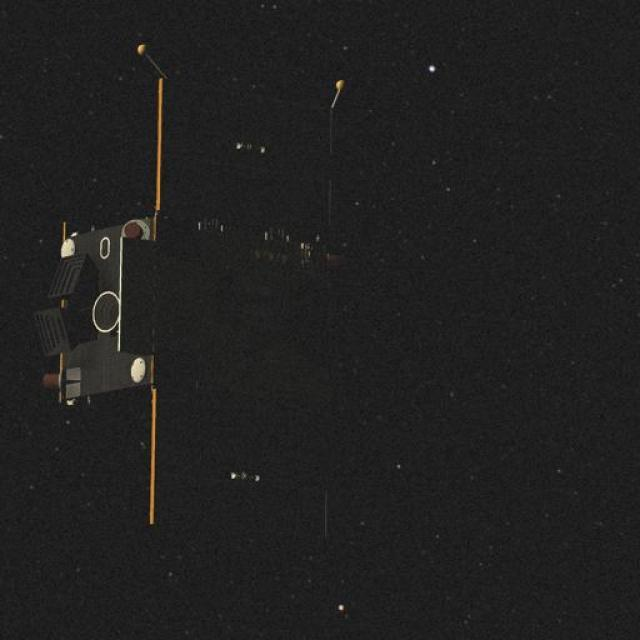proba_2: (41, 80, 401, 560)
